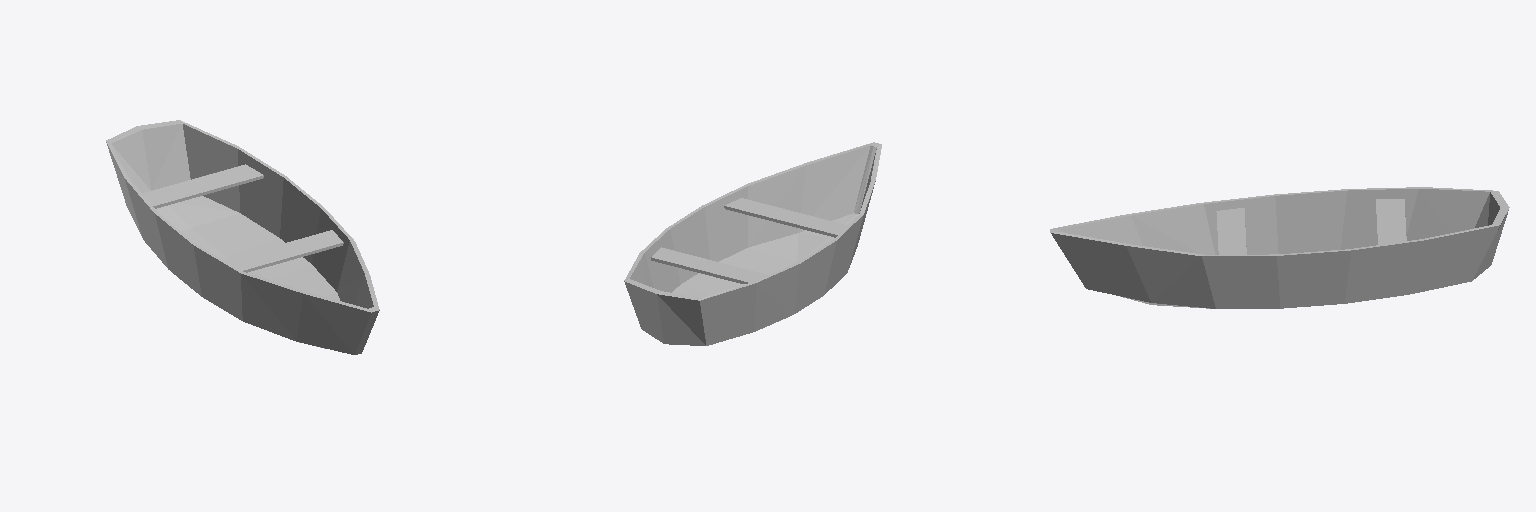
The model's file is Barca.obj.
3 renders of one model, left to right at view 1: azimuth 30°, elevation 25°; view 2: azimuth 150°, elevation 25°; view 3: azimuth 270°, elevation 25°, orthographic.
Visible parts, largest first — view 1: Cube.006, Cube.007; view 2: Cube.006, Cube.007; view 3: Cube.006, Cube.007.
Boxes of the visible parts, x1,y1,x2,y2 form: Cube.006: [106, 120, 379, 354]; Cube.007: [142, 164, 343, 272]; Cube.006: [624, 142, 881, 345]; Cube.007: [651, 198, 847, 283]; Cube.006: [1050, 187, 1509, 308]; Cube.007: [1216, 199, 1406, 254].
Bounding box in the file's own units: 0.1865 × 0.1249 × 0.5513.